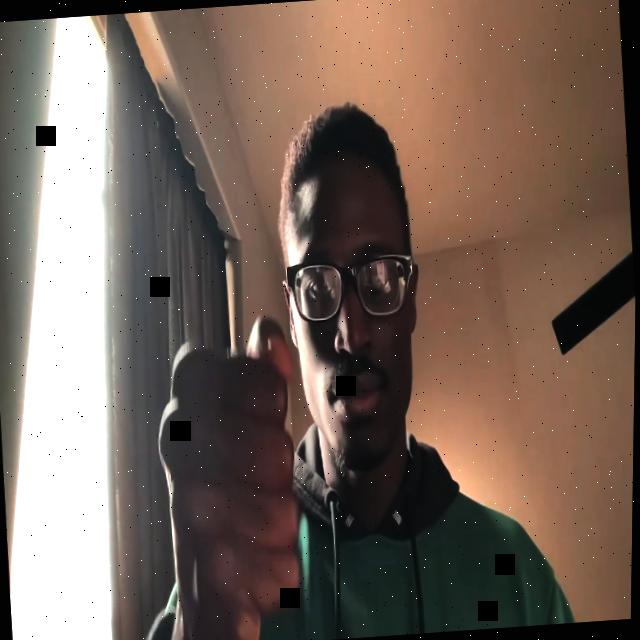Rock: (148, 313, 313, 640)
